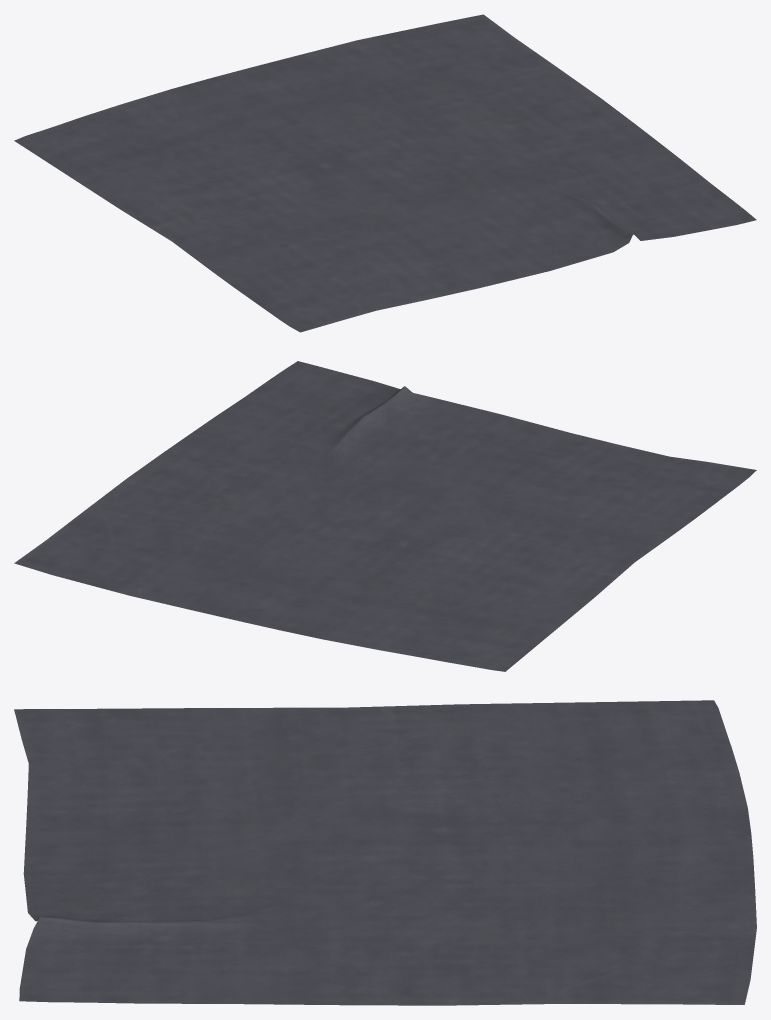
File: Ht_ditan_01.FBX
3 views of the same model, one above another, from view 1: azimuth 30°, elevation 25°; view 2: azimuth 150°, elevation 25°; view 3: azimuth 270°, elevation 25° (orthographic). The views are drawn at different scales.
Parts seen in each view (by area): view 1: Ht_ditan_01; view 2: Ht_ditan_01; view 3: Ht_ditan_01.
Part boxes in pixels (left/top/right/bottom): Ht_ditan_01: left=14, top=14, right=756, bottom=332; Ht_ditan_01: left=14, top=361, right=756, bottom=671; Ht_ditan_01: left=14, top=700, right=756, bottom=1005.
Bounding box in the file's own units: 688 × 15.42 × 705.
